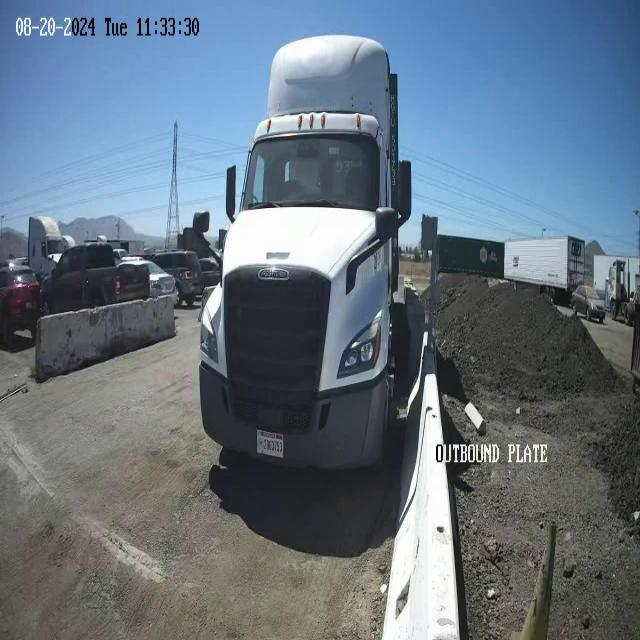TRUCK_OUT: (198, 32, 416, 474)
